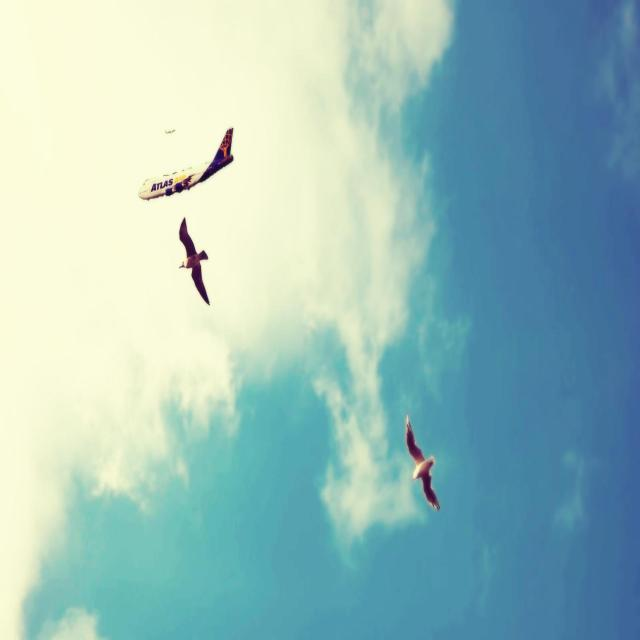airplane: (137, 126, 234, 202)
